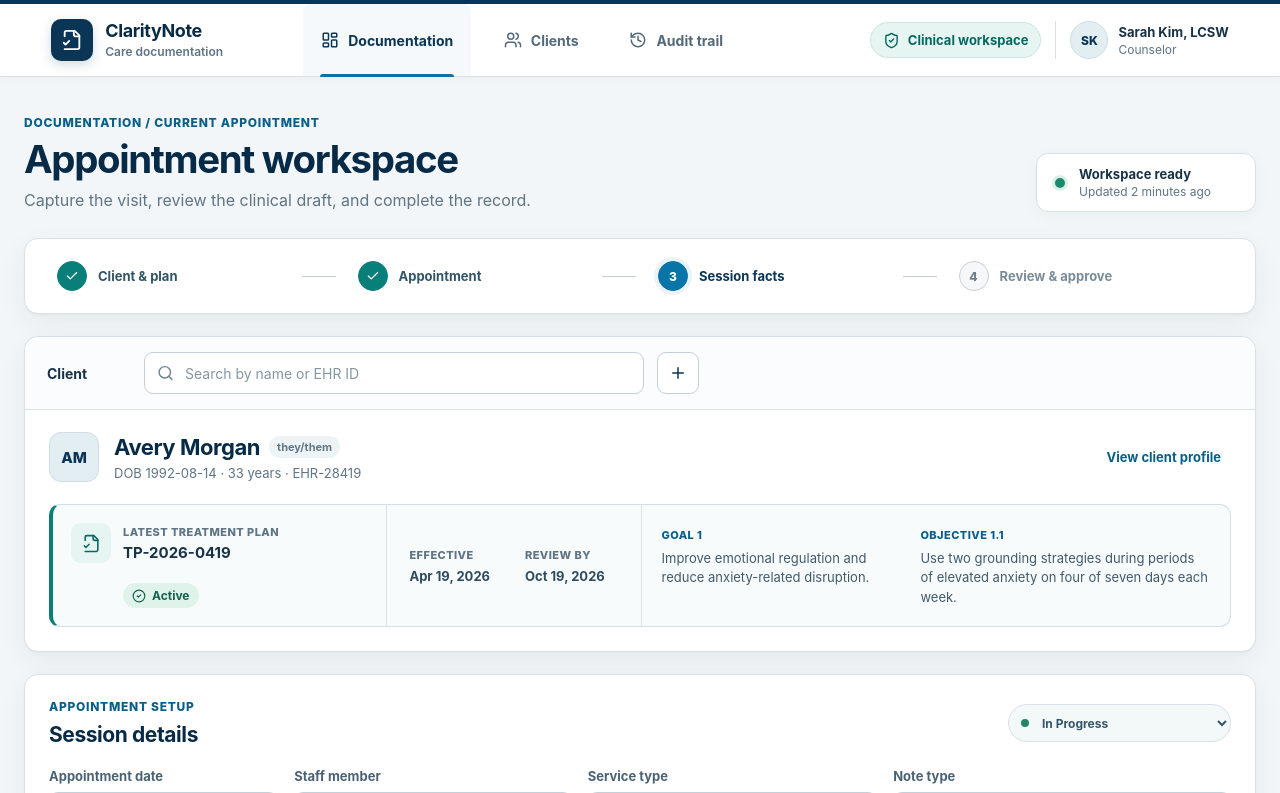
Test: clinical documentation workspace › blocks voice and generation for an expired treatment plan while allowing facts to save
Check: the heading "Appointment workspace" is shown, box [24, 138, 531, 180]
Click the field labelled "Client" at point(394, 373), box [144, 352, 644, 394]
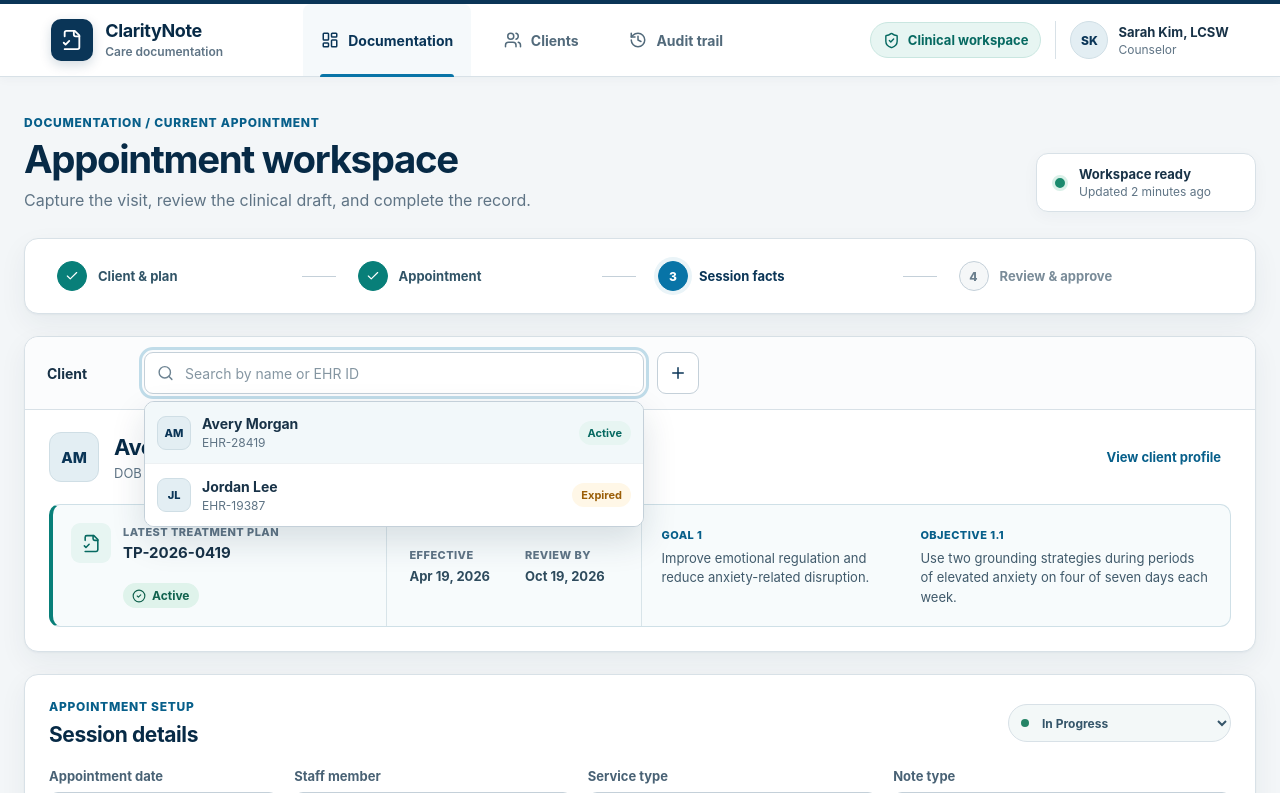
Click the option "JL Jordan Lee EHR-19387 expired" at point(174, 495), box [145, 464, 643, 526]
(page scrolled)
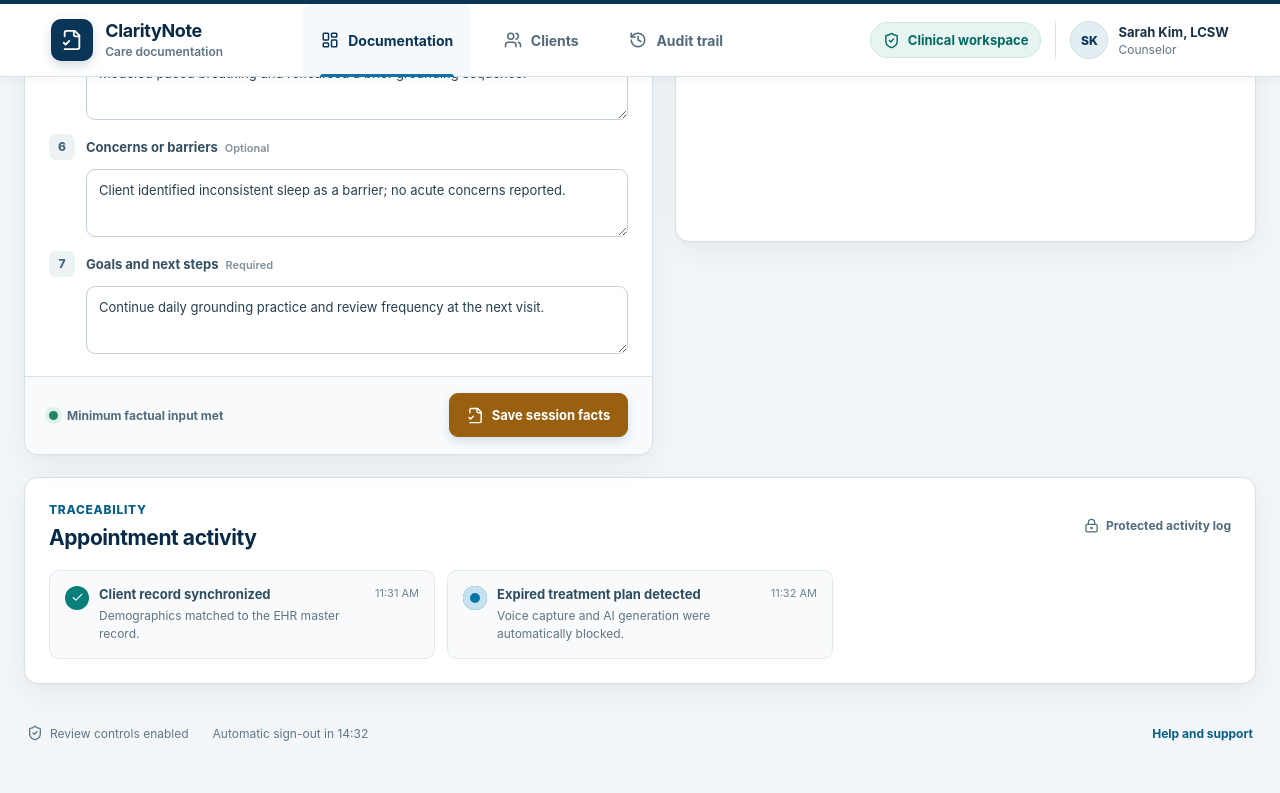
Click the button "Save session facts" at point(538, 415), box [449, 393, 628, 437]
(page scrolled)
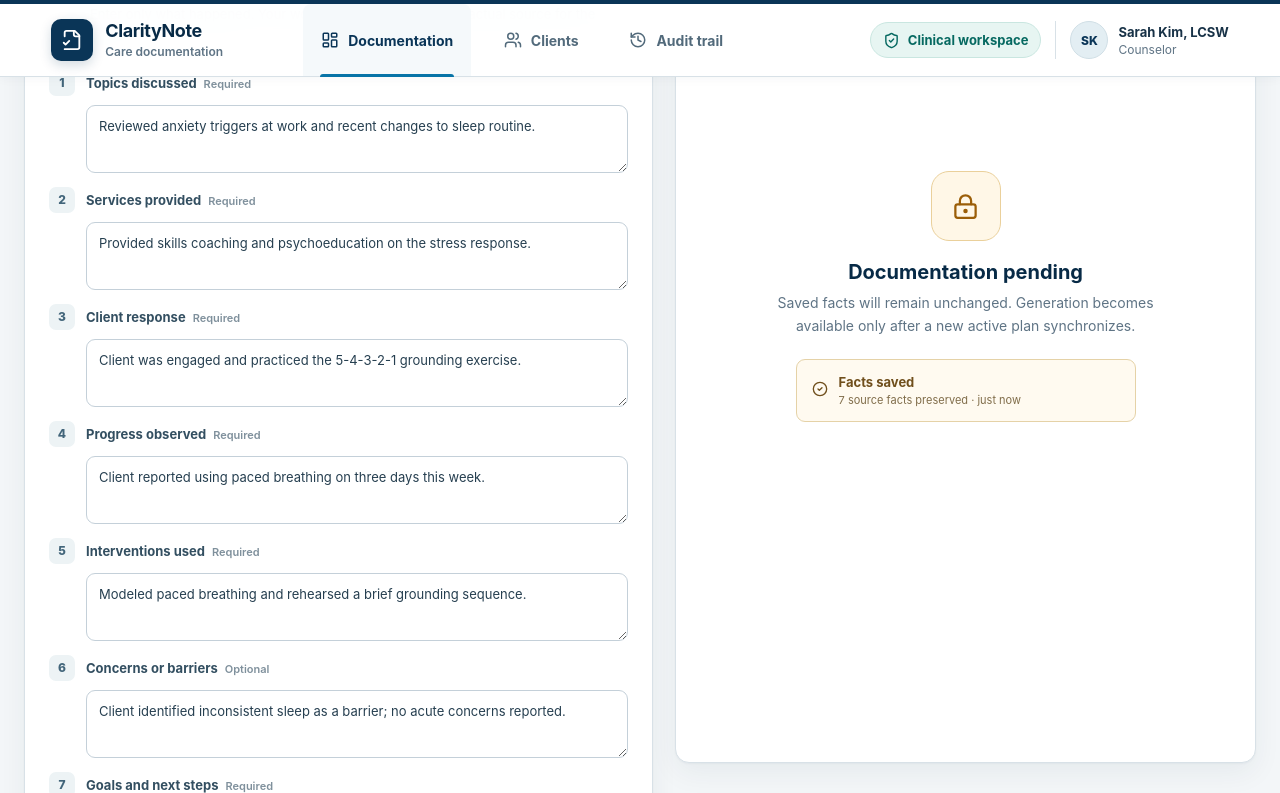
Check: the text "Facts saved" is shown, box [839, 374, 914, 390]
Check: the text "7 source facts preserved · just now" is shown, box [839, 393, 1021, 407]
